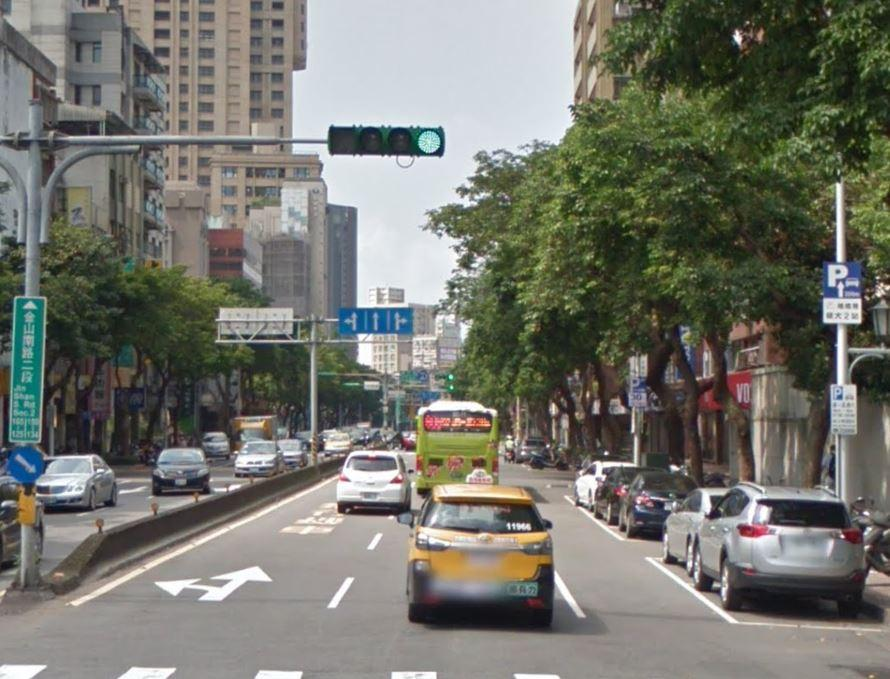green_traffic_light: (325, 122, 447, 158)
